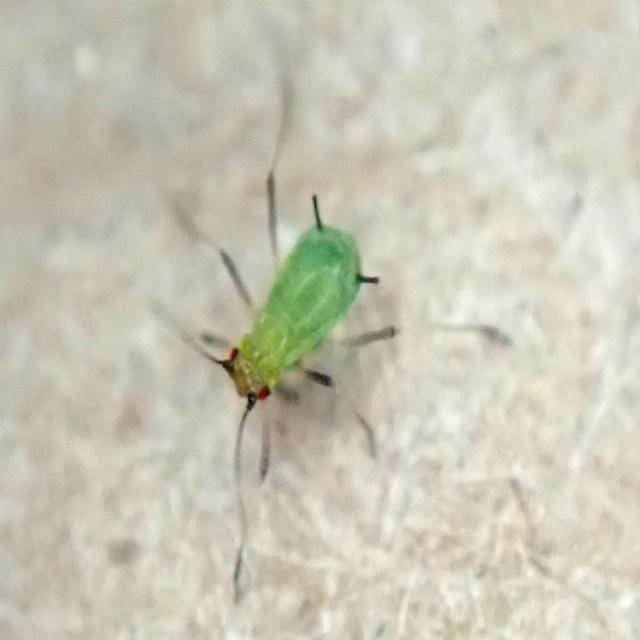Aphids: (149, 176, 422, 503)
